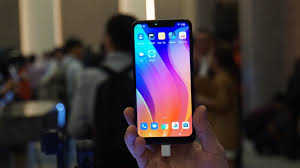vsmart: (130, 18, 196, 147)
